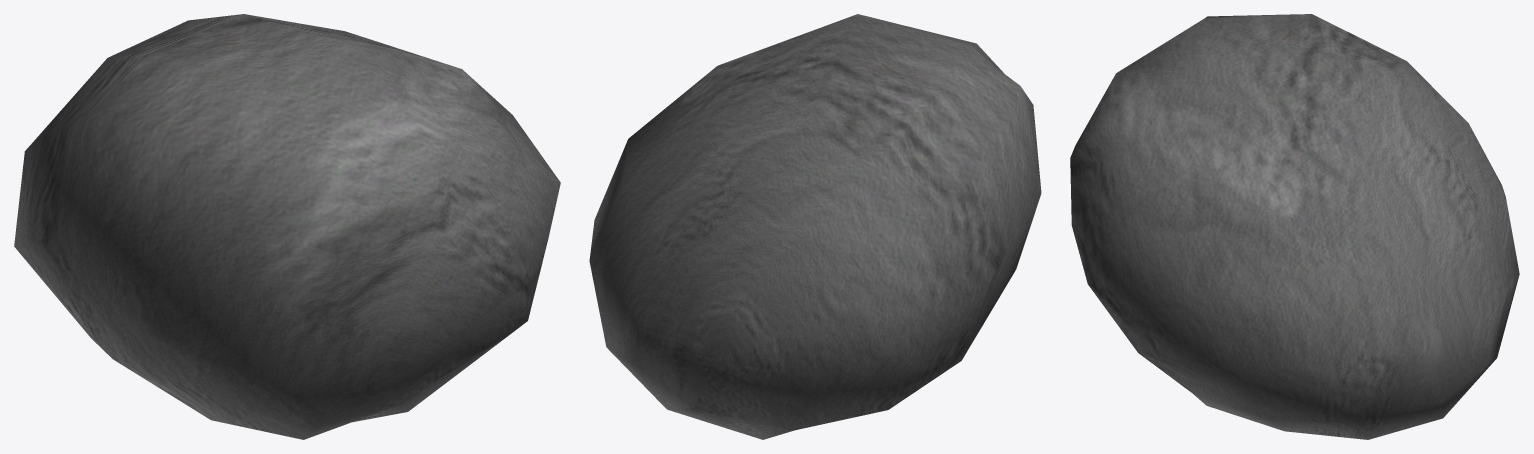
File: Stone8Shape.dae
3 renders of one model, left to right at view 1: azimuth 30°, elevation 25°; view 2: azimuth 150°, elevation 25°; view 3: azimuth 270°, elevation 25°, orthographic. The views are drawn at different scales.
Visible parts, largest first — view 1: Stone8; view 2: Stone8; view 3: Stone8.
Boxes of the visible parts, bbox=[...] form: Stone8: bbox=[14, 14, 560, 439]; Stone8: bbox=[589, 14, 1041, 439]; Stone8: bbox=[1070, 14, 1519, 439].
Bounding box in the file's own units: 11.46 × 9.56 × 11.18.
